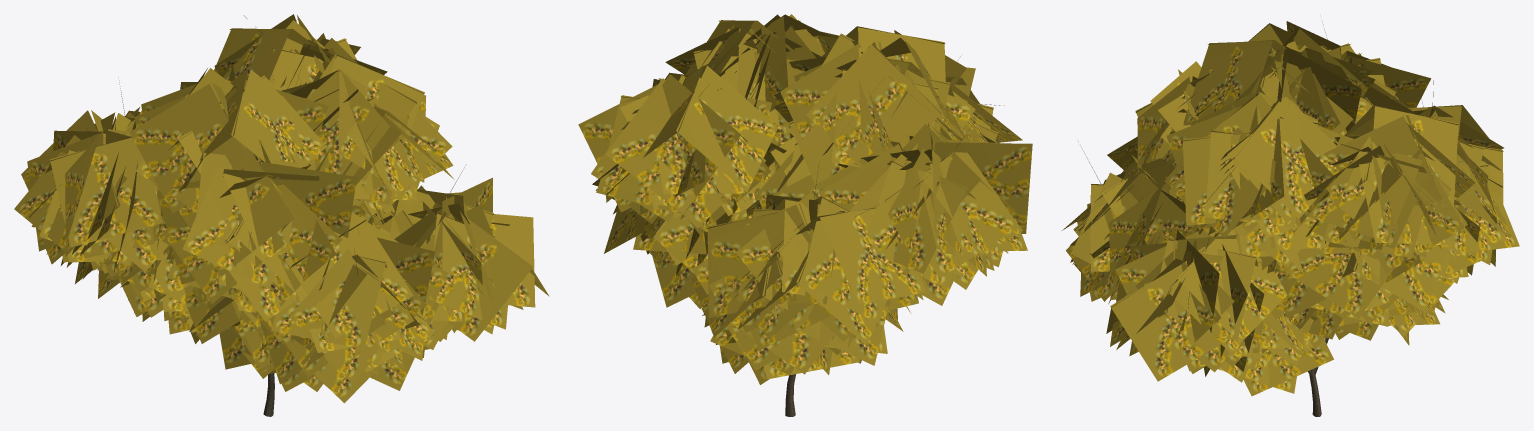
Rendered from Hamamelis_Virginiana_Autumn_Young.glb.
The picture shows the model from 3 angles, left to right: view 1: azimuth 30°, elevation 25°; view 2: azimuth 150°, elevation 25°; view 3: azimuth 270°, elevation 25°; orthographic projection. The views are drawn at different scales.
Parts seen in each view (by area): view 1: Hamamelis_Virginiana_Autumn_Young__LOD3; view 2: Hamamelis_Virginiana_Autumn_Young__LOD3; view 3: Hamamelis_Virginiana_Autumn_Young__LOD3.
Part boxes in pixels (x1,y1,x2,y2): Hamamelis_Virginiana_Autumn_Young__LOD3: (14,14,549,416); Hamamelis_Virginiana_Autumn_Young__LOD3: (578,14,1032,416); Hamamelis_Virginiana_Autumn_Young__LOD3: (1062,21,1519,416).
Size of the model in its own units: 2.81 by 2.33 by 2.73.
2 materials, 2 textured.
